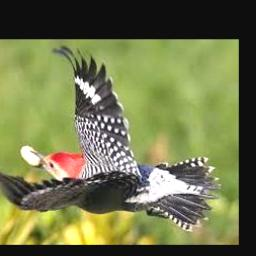Woodpecker: (0, 45, 222, 231)
